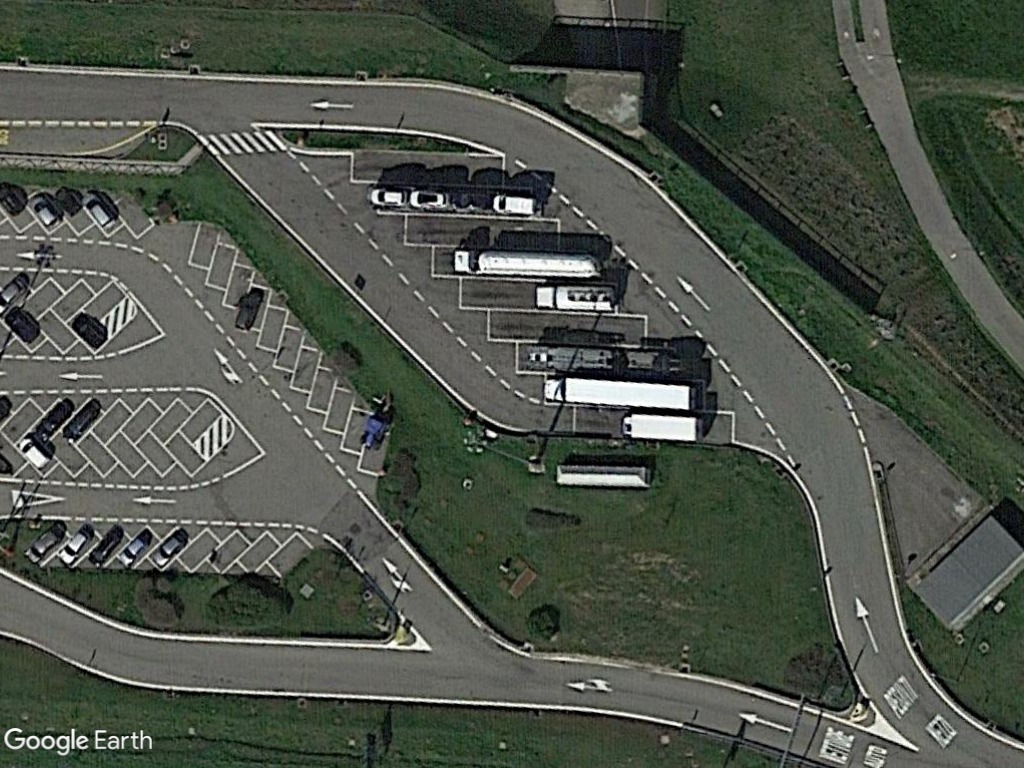car: (73, 188, 119, 232), (57, 525, 99, 570), (23, 526, 61, 568), (113, 529, 152, 568), (152, 530, 189, 570), (15, 436, 54, 472), (26, 194, 61, 231), (366, 186, 412, 209), (407, 188, 450, 210)
longvehicle: (539, 372, 699, 413), (449, 246, 607, 282)
truck: (619, 408, 706, 446), (531, 283, 617, 314)
van: (488, 190, 542, 217)
